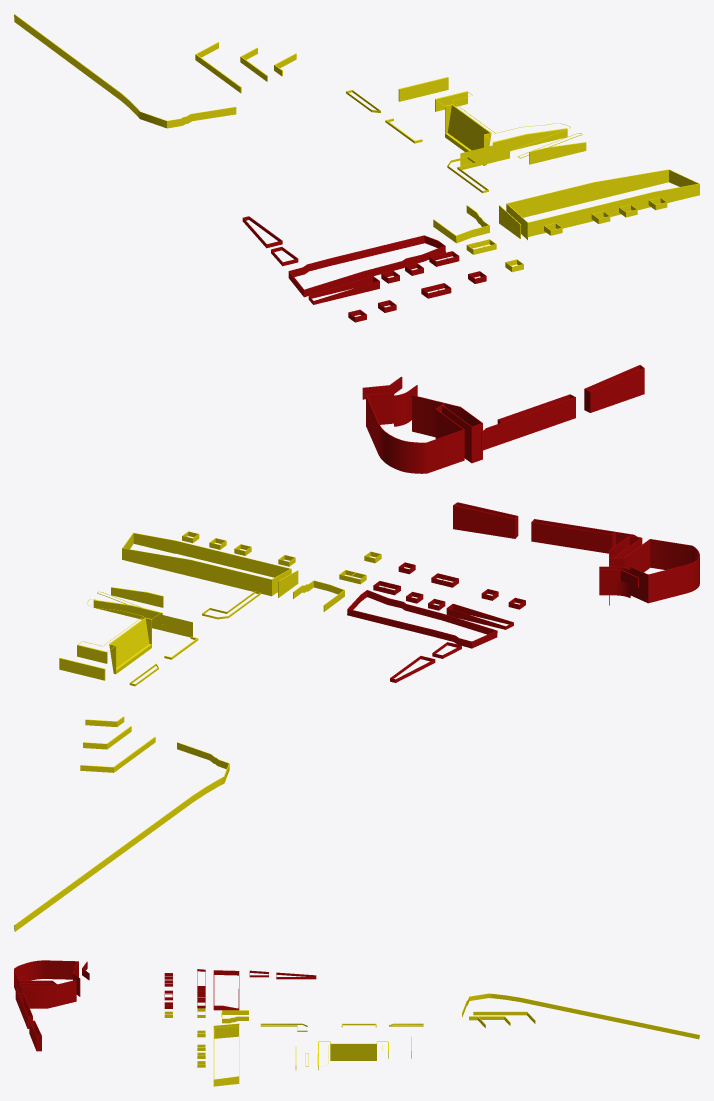
File: SM_Env_Edge_01a.fbx
The picture shows the model from 3 angles, top to bottom: view 1: azimuth 30°, elevation 25°; view 2: azimuth 150°, elevation 25°; view 3: azimuth 270°, elevation 25°; orthographic projection. The views are drawn at different scales.
Visible parts, largest first — view 1: SM_Env_Edge_01a; view 2: SM_Env_Edge_01a; view 3: SM_Env_Edge_01a.
Part boxes in pixels (x1,y1,x2,y2): SM_Env_Edge_01a: (14, 14, 699, 473); SM_Env_Edge_01a: (14, 502, 699, 931); SM_Env_Edge_01a: (14, 960, 699, 1086).
Size of the model in its own units: 16025 by 2486 by 34450.
